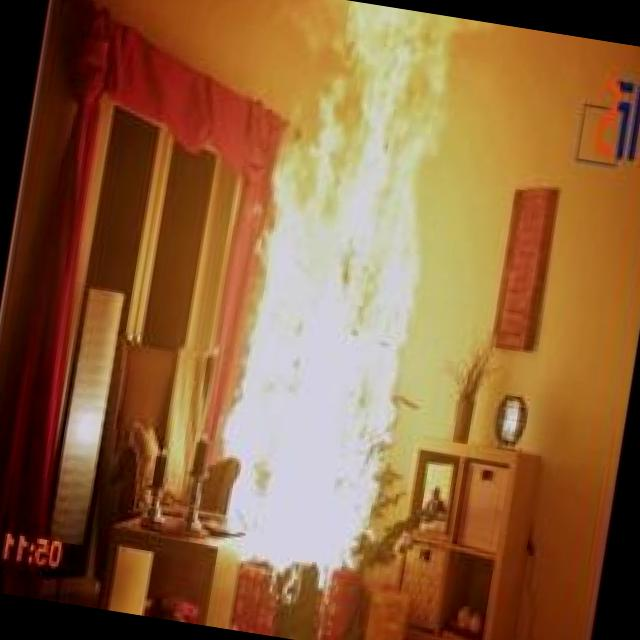fire: (142, 0, 495, 601)
